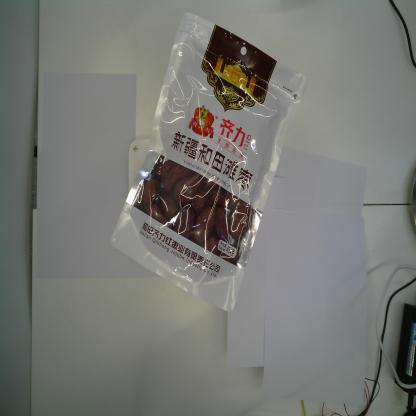Dried Food: (110, 9, 310, 315)
